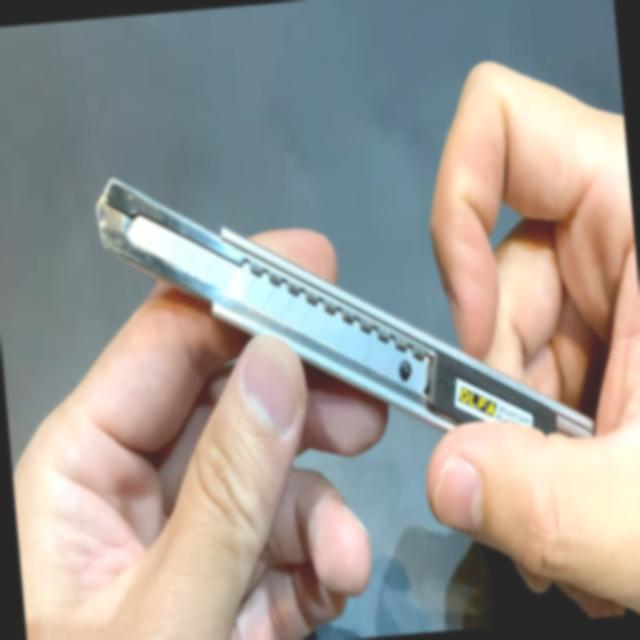cutter: (81, 41, 634, 525)
